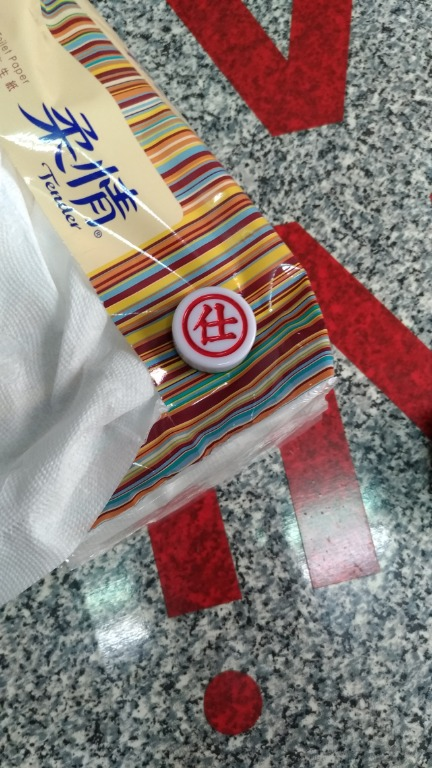r-advisor: (161, 280, 273, 382)
